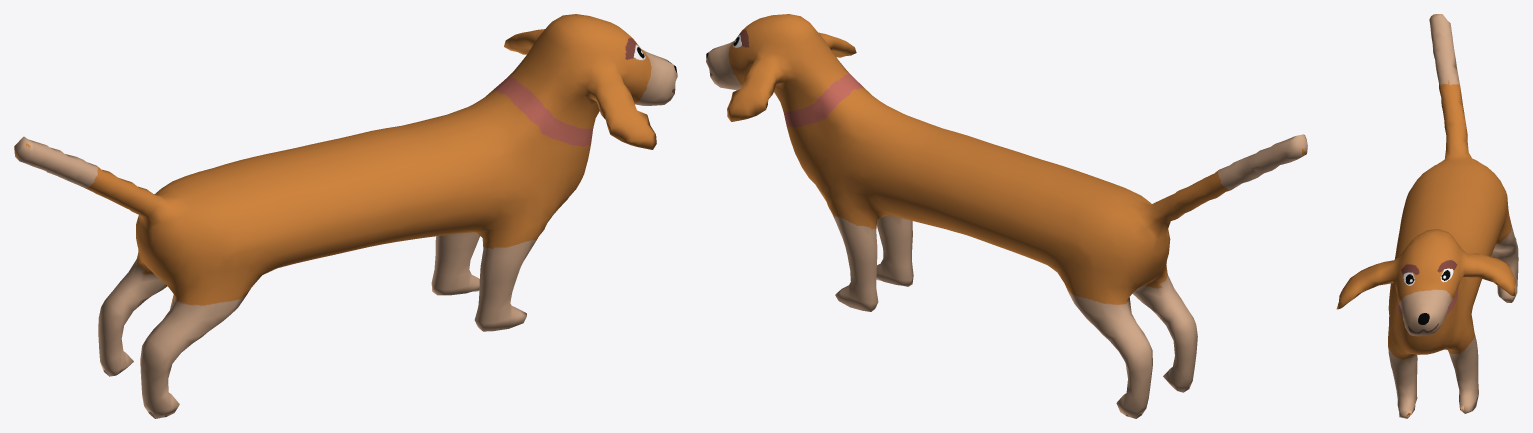
The model's file is dog_aug_6.obj.
3 views of the same model, side by side, from view 1: azimuth 30°, elevation 25°; view 2: azimuth 150°, elevation 25°; view 3: azimuth 270°, elevation 25° (orthographic). The views are drawn at different scales.
Bounding box in the file's own units: 105 × 47.16 × 32.3.
Materials: 1 (1 with a texture image).
